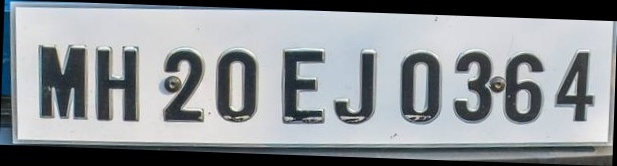character: (36, 40, 88, 120), (279, 46, 328, 128), (92, 44, 141, 125), (331, 45, 376, 125), (212, 45, 258, 123), (162, 46, 205, 125), (399, 50, 442, 125), (502, 50, 546, 123), (554, 48, 596, 124), (451, 50, 492, 124)
